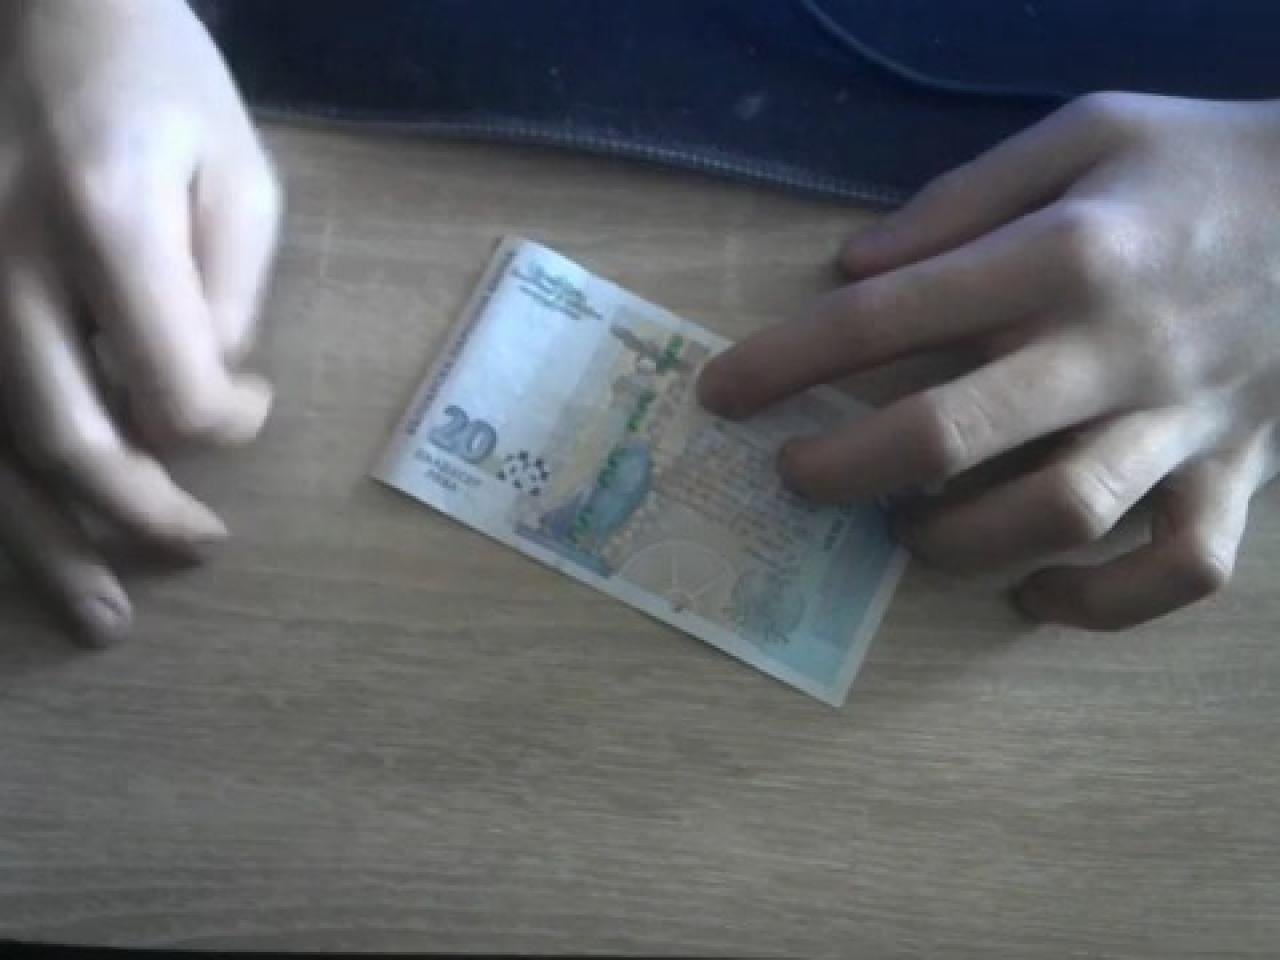20leva: (366, 230, 917, 710)
